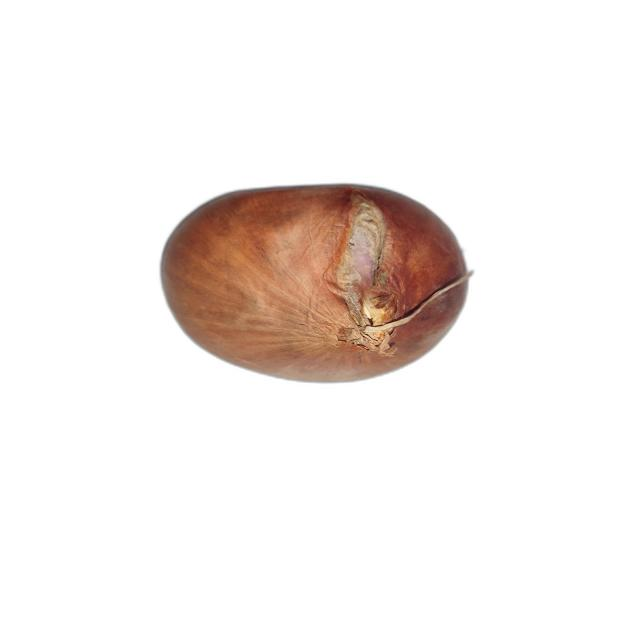onion: (158, 182, 474, 384)
